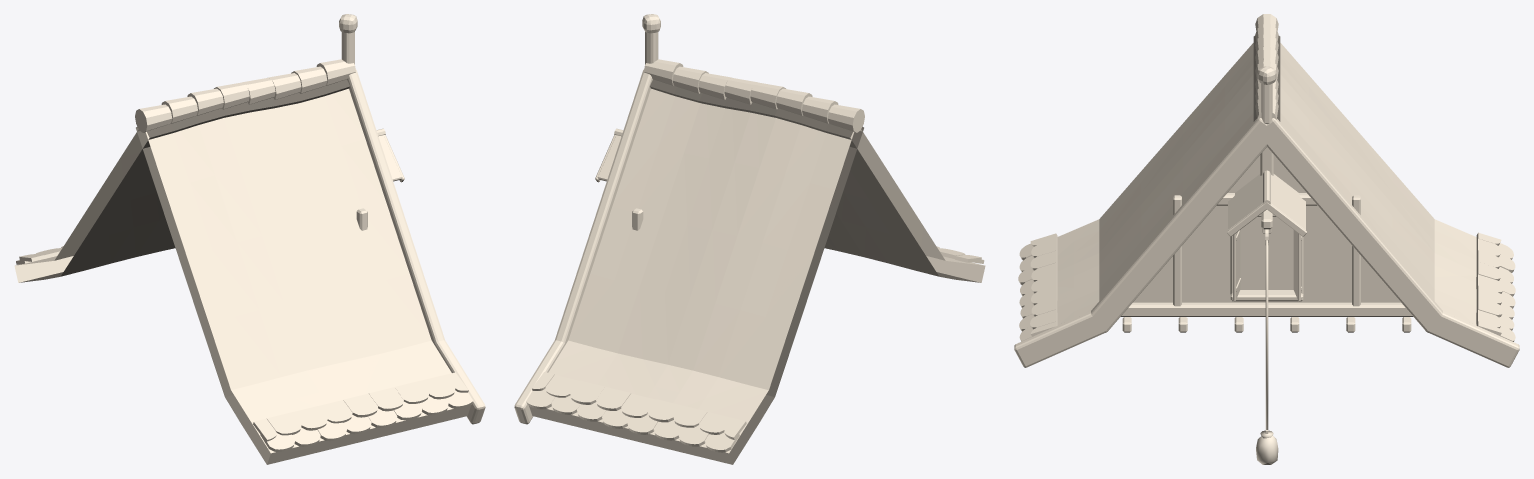
File: SM_VK_Roof_Gable_Hoist.fbx
The picture shows the model from 3 angles, left to right: view 1: azimuth 30°, elevation 25°; view 2: azimuth 150°, elevation 25°; view 3: azimuth 270°, elevation 25°; orthographic projection. The views are drawn at different scales.
Parts seen in each view (by area): view 1: SM_VK_Roof_Gable_Hoist.001; view 2: SM_VK_Roof_Gable_Hoist.001; view 3: SM_VK_Roof_Gable_Hoist.001.
Part boxes in pixels (left/top/right/bottom): SM_VK_Roof_Gable_Hoist.001: left=14, top=14, right=485, bottom=464; SM_VK_Roof_Gable_Hoist.001: left=514, top=14, right=985, bottom=464; SM_VK_Roof_Gable_Hoist.001: left=1014, top=14, right=1519, bottom=464.
Size of the model in its own units: 5.08 by 7.48 by 9.04.
